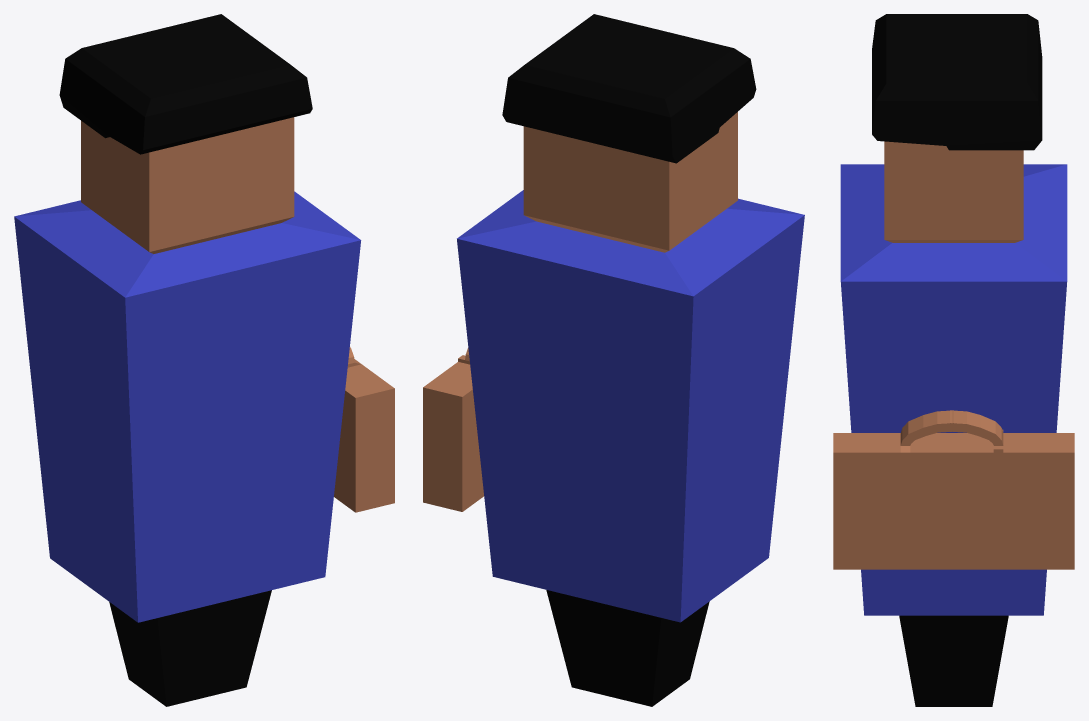
File: Человек №6.fbx
3 renders of one model, left to right at view 1: azimuth 30°, elevation 25°; view 2: azimuth 150°, elevation 25°; view 3: azimuth 270°, elevation 25°, orthographic.
Visible parts, largest first — view 1: Cube; view 2: Cube; view 3: Cube.
Part boxes in pixels (left/top/right/bottom): Cube: left=14, top=14, right=394, bottom=706; Cube: left=423, top=14, right=804, bottom=706; Cube: left=833, top=14, right=1074, bottom=706.
Size of the model in its own units: 225 by 507 by 174.
